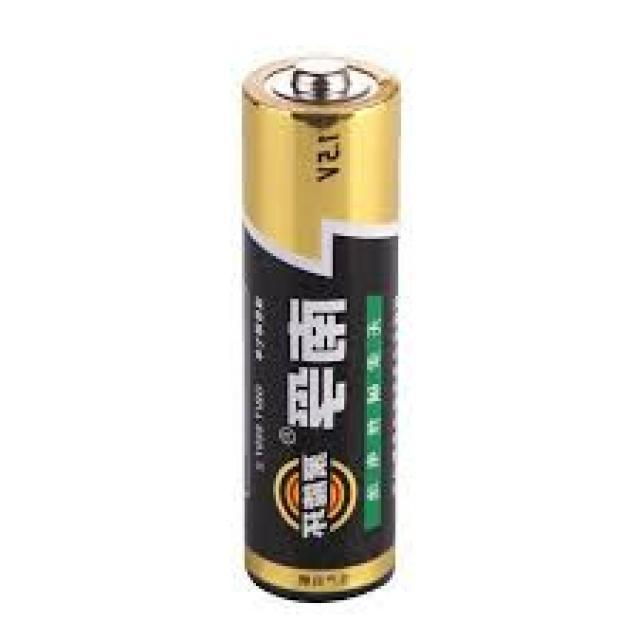battery: (243, 51, 397, 609)
